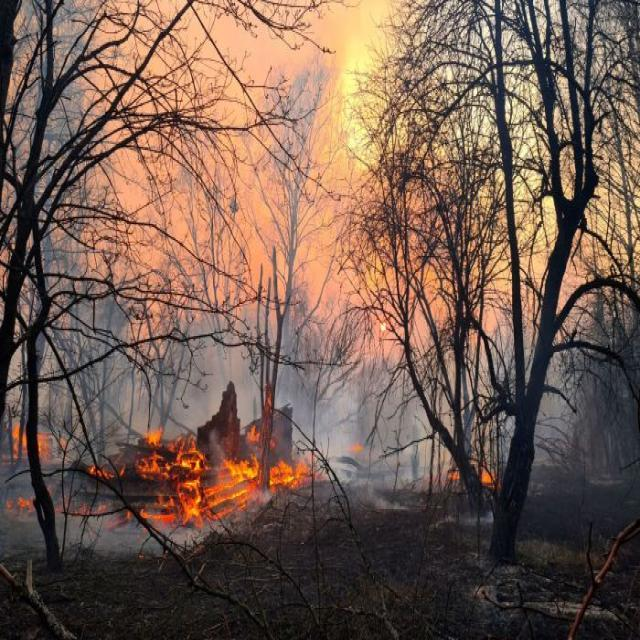Fire: (139, 431, 317, 528)
Smoke: (47, 0, 451, 487)
